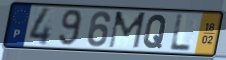4: (28, 7, 53, 47)
6: (86, 10, 112, 48)
9: (58, 9, 84, 48)
L: (168, 13, 192, 53)
M: (107, 11, 148, 50)
Q: (142, 13, 169, 50)
